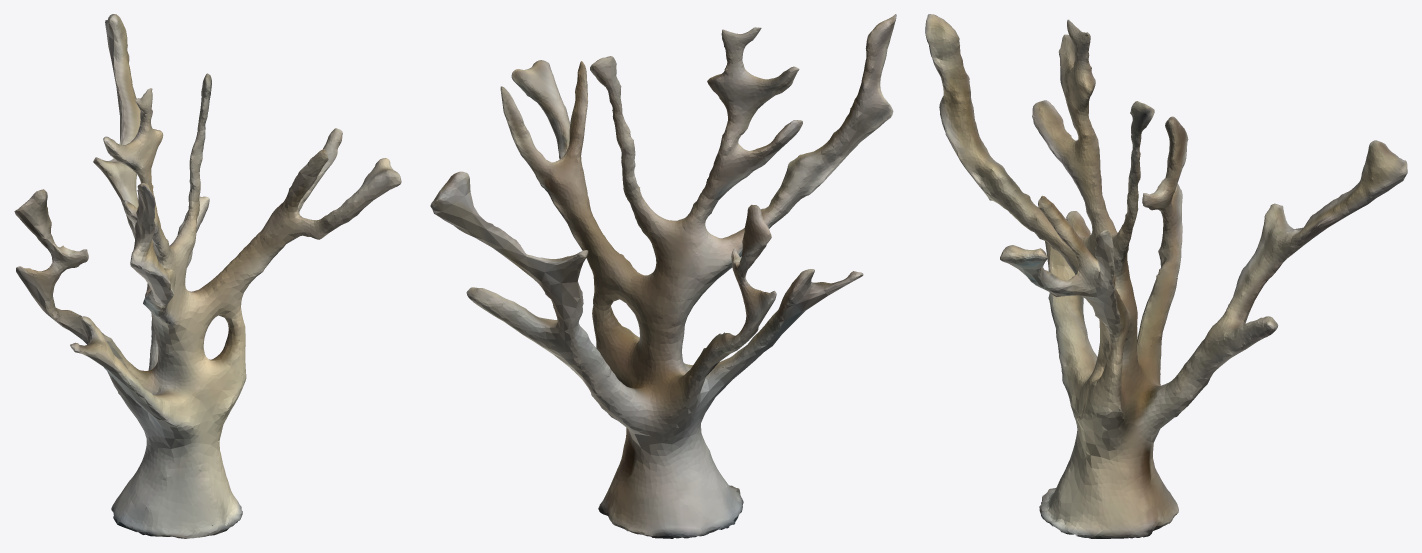
3 renders of one model, left to right at view 1: azimuth 30°, elevation 25°; view 2: azimuth 150°, elevation 25°; view 3: azimuth 270°, elevation 25°, orthographic. The views are drawn at different scales.
Visible parts, largest first — view 1: mesh; view 2: mesh; view 3: mesh.
Part boxes in pixels (x1=…): mesh: x1=14, y1=14, x2=401, y2=538; mesh: x1=430, y1=14, x2=896, y2=538; mesh: x1=925, y1=14, x2=1407, y2=538.
Bounding box in the file's own units: 0.1671 × 0.222 × 0.2105.
Materials: 1 (1 with a texture image).
